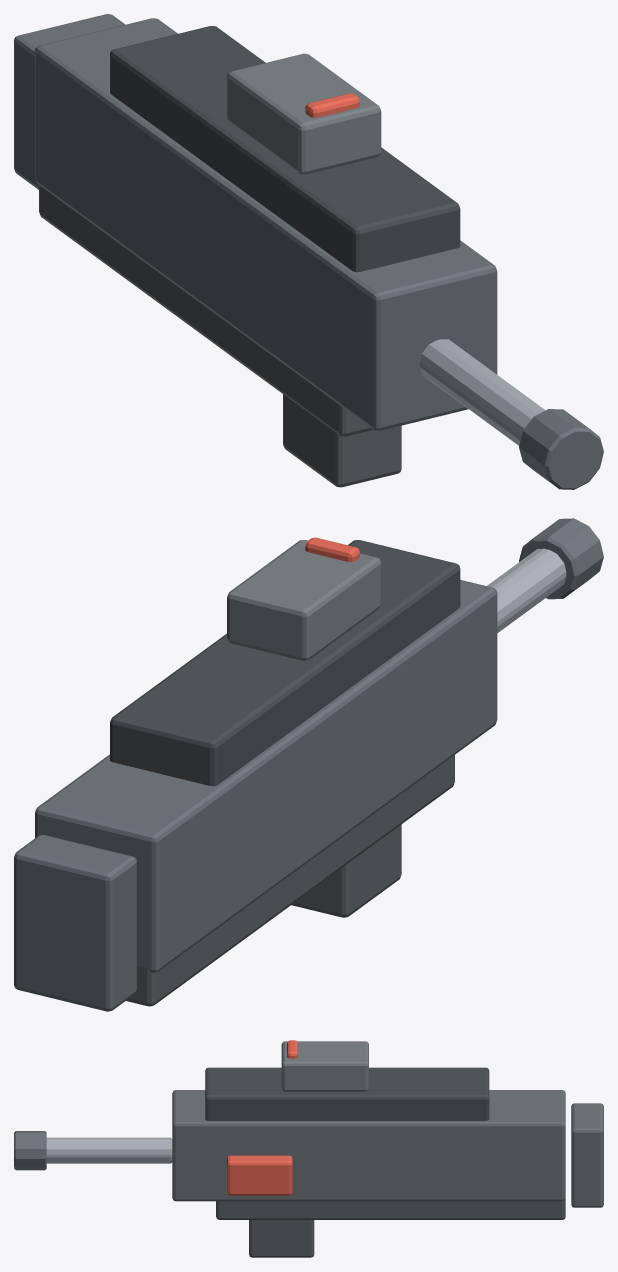
3 views of the same model, one above another, from view 1: azimuth 30°, elevation 25°; view 2: azimuth 150°, elevation 25°; view 3: azimuth 270°, elevation 25° (orthographic). The views are drawn at different scales.
Parts seen in each view (by area): view 1: Body, TopMag, Sight, Shell, Foregrip, Barrel, Muzzle, Backplate, Reticle; view 2: Body, TopMag, Backplate, Sight, Shell, Foregrip, Barrel, Muzzle, Reticle; view 3: Body, TopMag, Shell, Sight, Backplate, Barrel, Ejection, Foregrip, Muzzle.
Part boxes in pixels (x1=…): Body: x1=35, y1=18, x2=497, y2=430; TopMag: x1=110, y1=26, x2=460, y2=272; Sight: x1=227, y1=53, x2=381, y2=174; Shell: x1=39, y1=185, x2=373, y2=436; Foregrip: x1=283, y1=394, x2=401, y2=487; Barrel: x1=420, y1=339, x2=545, y2=445; Muzzle: x1=519, y1=409, x2=603, y2=489; Backplate: x1=14, y1=14, x2=125, y2=189; Reticle: x1=305, y1=93, x2=359, y2=117; Body: x1=35, y1=580, x2=497, y2=972; TopMag: x1=110, y1=540, x2=460, y2=786; Backplate: x1=14, y1=835, x2=136, y2=1011; Sight: x1=227, y1=540, x2=381, y2=660; Shell: x1=126, y1=755, x2=454, y2=1006; Foregrip: x1=291, y1=824, x2=401, y2=917; Barrel: x1=487, y1=548, x2=566, y2=632; Muzzle: x1=519, y1=518, x2=603, y2=599; Reticle: x1=305, y1=537, x2=359, y2=562; Body: x1=172, y1=1090, x2=565, y2=1201; TopMag: x1=205, y1=1067, x2=489, y2=1120; Shell: x1=216, y1=1199, x2=565, y2=1219; Sight: x1=281, y1=1041, x2=368, y2=1091; Backplate: x1=571, y1=1103, x2=603, y2=1207; Barrel: x1=46, y1=1137, x2=172, y2=1163; Ejection: x1=227, y1=1155, x2=292, y2=1195; Foregrip: x1=249, y1=1220, x2=314, y2=1257; Muzzle: x1=14, y1=1131, x2=46, y2=1170.
Bounding box in the file's own units: 0.0895 × 0.2055 × 0.54.
